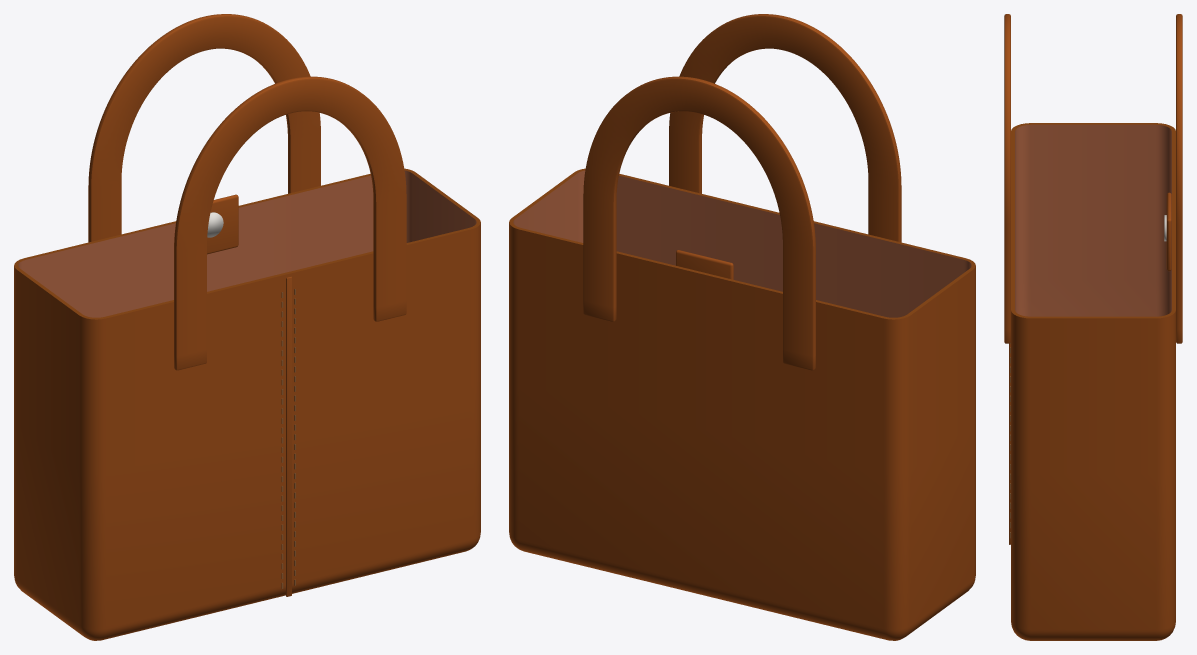
Rendered from m_mvc893fmvn20.glb.
3 renders of one model, left to right at view 1: azimuth 30°, elevation 25°; view 2: azimuth 150°, elevation 25°; view 3: azimuth 270°, elevation 25°, orthographic.
Visible parts, largest first — view 1: Body, HandleFront, HandleBack, Seam, ClosureTab, Stitches; view 2: Body, HandleBack, HandleFront, ClosureTab; view 3: Body, HandleBack, HandleFront, ClosureTab, Seam.
Part boxes in pixels (x1,y1,x2,y2): Body: (14,168,480,640); HandleFront: (174,76,406,370); HandleBack: (88,14,320,242); Seam: (286,276,291,596); ClosureTab: (207,194,238,254); Stitches: (281,289,295,588); Body: (509,168,975,640); HandleBack: (583,76,815,370); HandleFront: (669,14,901,242); ClosureTab: (676,250,733,279); Body: (1011,123,1175,640); HandleBack: (1176,14,1182,343); HandleFront: (1004,14,1010,343); ClosureTab: (1166,192,1171,271); Seam: (1009,343,1010,544).
Bounding box in the file's own units: 0.28 × 0.351 × 0.108.
